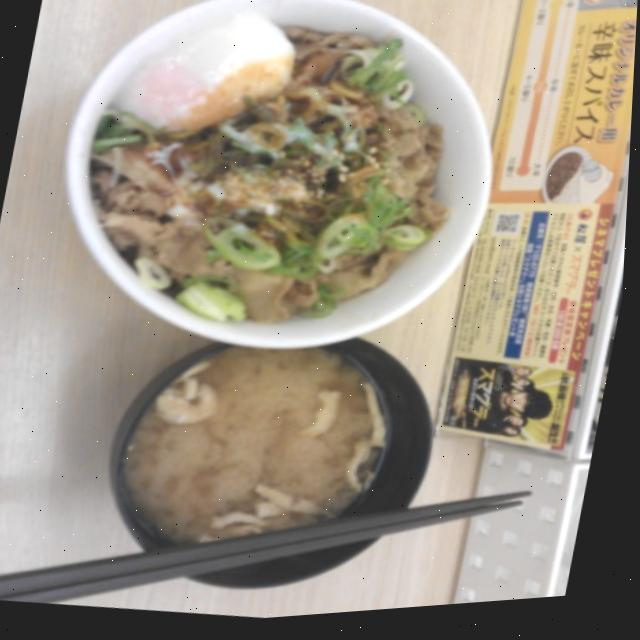汤锅炖物: (83, 290, 473, 634)
